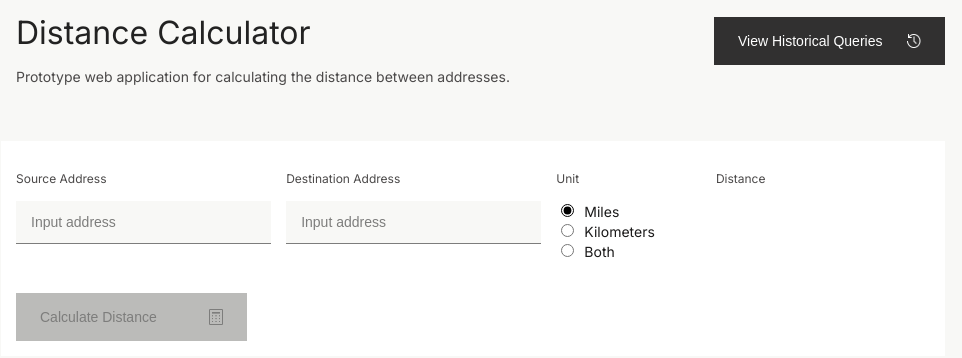
App › is click redirect
Click the button "View Historical Queries" at (830, 41), box [714,17,945,65]
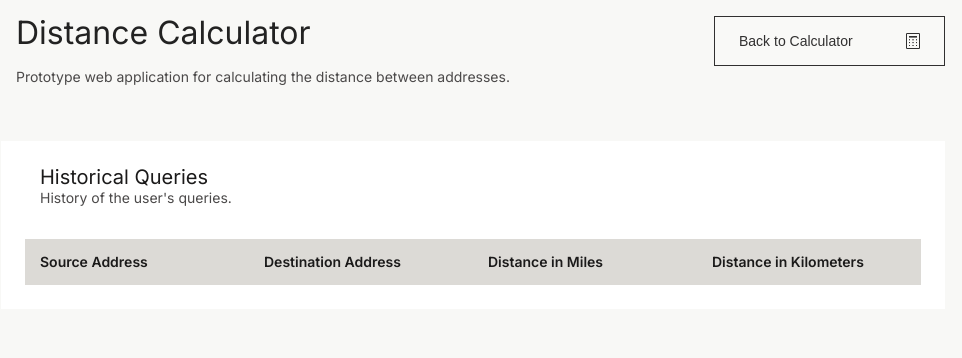
Expected: the button "Back to Calculator" is shown, [714,16,945,66]
